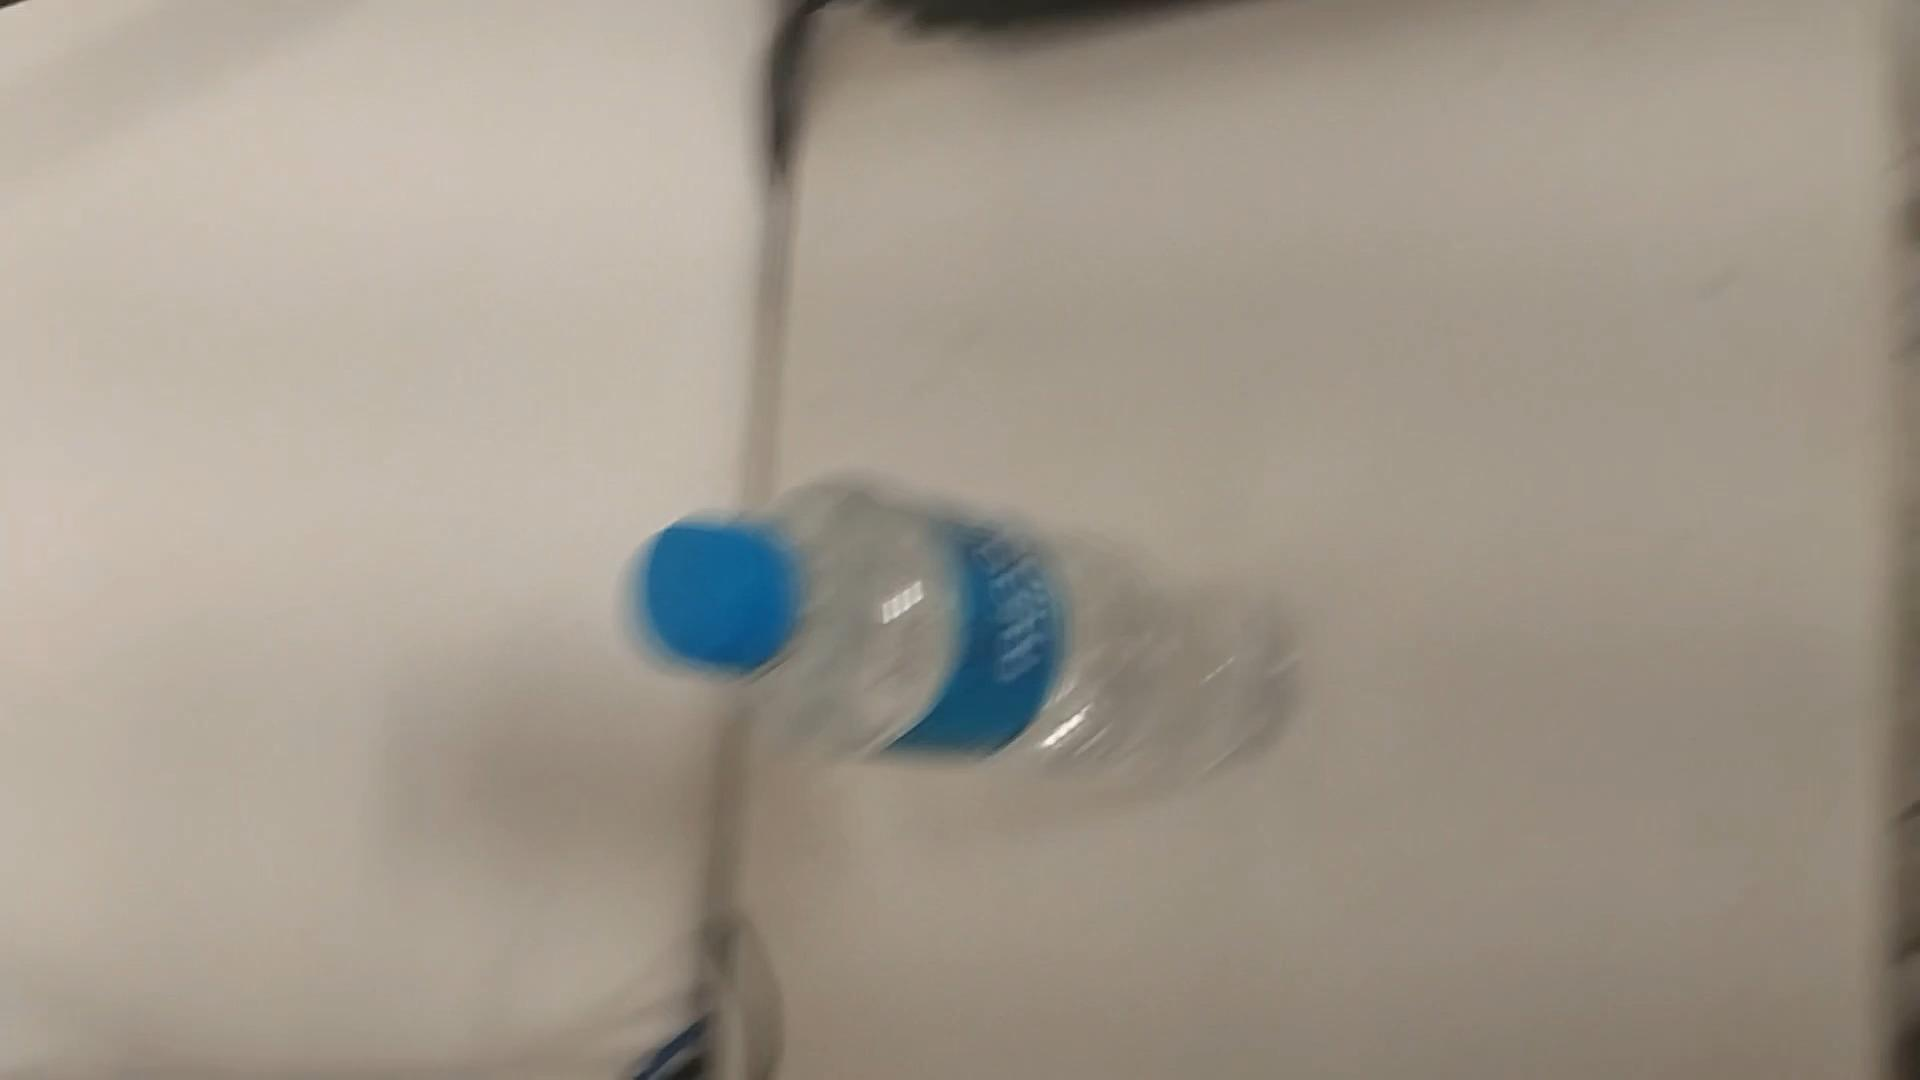agua: (628, 472, 1286, 787)
